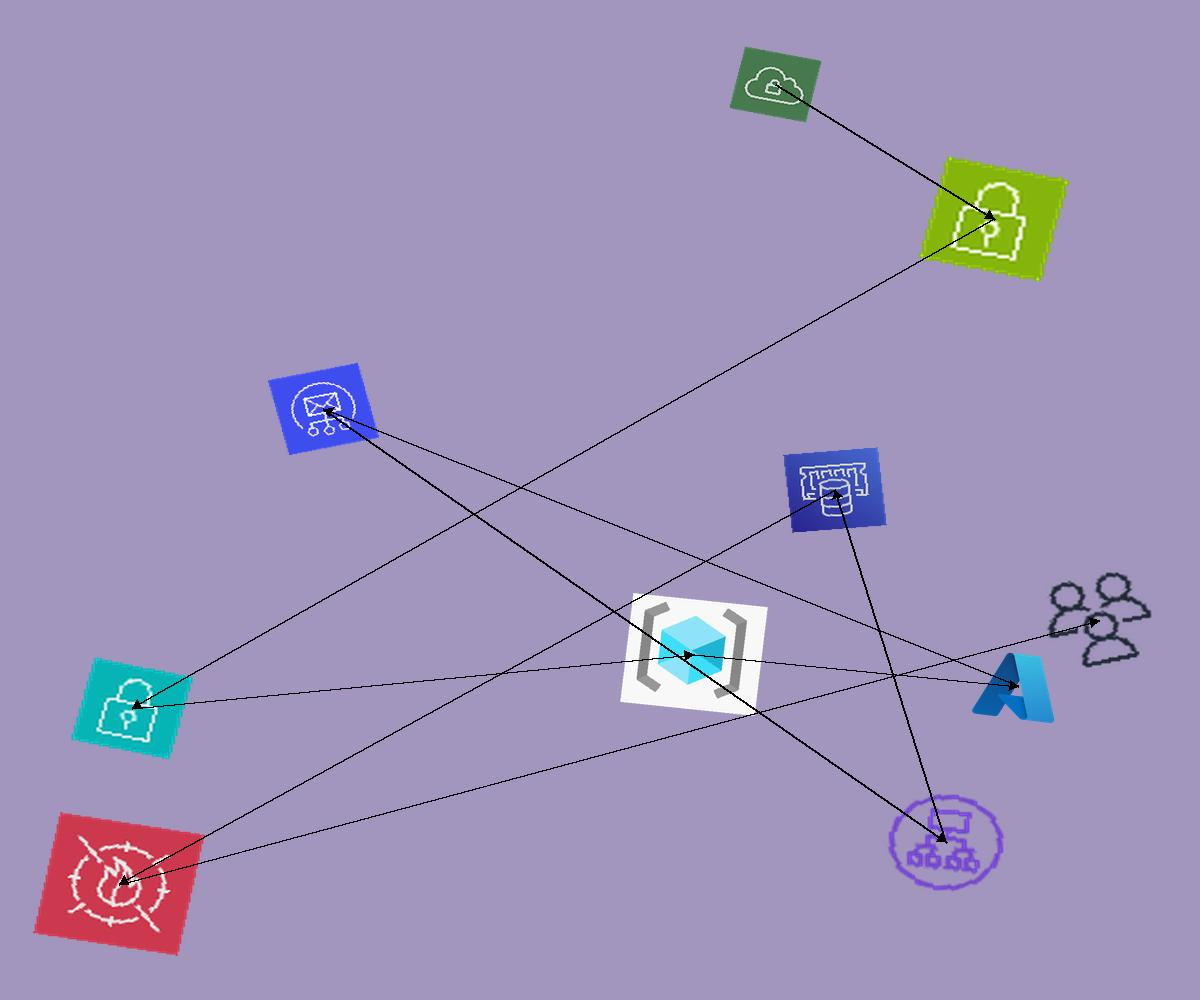AWS-ElastiCache: (783, 447, 887, 533)
AWS-Private-subnet: (69, 656, 195, 761)
AWS-Private_vpc: (729, 46, 822, 123)
AWS-Public-subnet: (916, 154, 1072, 284)
AWS-Res_Elastic-Load-Balancing_Application-Load-Balancer: (876, 784, 1016, 901)
AWS-Res_Users: (1028, 561, 1170, 679)
AWS-Simple-Email-Service: (267, 362, 380, 456)
AWS-WAF: (33, 812, 205, 956)
Azure_resource_group: (620, 593, 768, 716)
Azure_services: (967, 644, 1070, 729)
